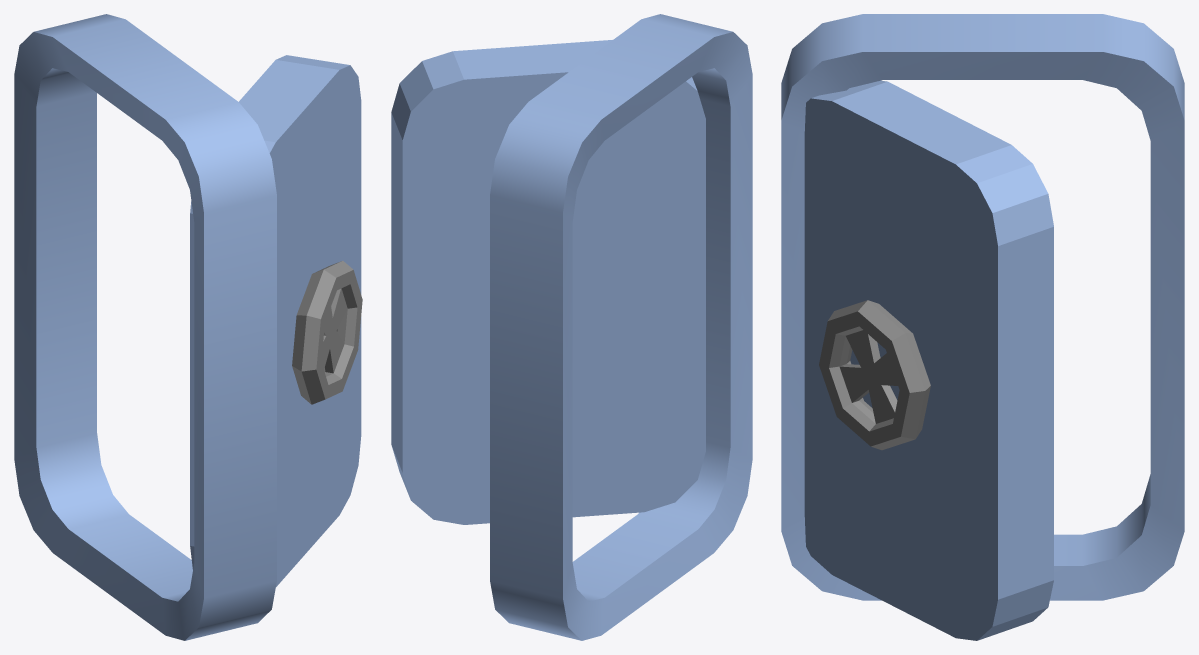
File: spongeBobDvere2.fbx
3 views of the same model, side by side, from view 1: azimuth 30°, elevation 25°; view 2: azimuth 150°, elevation 25°; view 3: azimuth 270°, elevation 25° (orthographic). The views are drawn at different scales.
Parts seen in each view (by area): view 1: Cube.001, Cube, Torus; view 2: Cube, Cube.001; view 3: Cube, Cube.001, Torus.
Boxes of the visible parts, <box> form: Cube.001: <box>14,14,276,640</box>; Cube: <box>190,55,361,586</box>; Torus: <box>292,261,362,404</box>; Cube: <box>391,40,705,524</box>; Cube.001: <box>490,14,752,640</box>; Cube: <box>804,80,1053,640</box>; Cube.001: <box>781,14,1184,600</box>; Torus: <box>819,300,930,450</box>.
Bounding box in the file's own units: 400 × 760 × 507.
